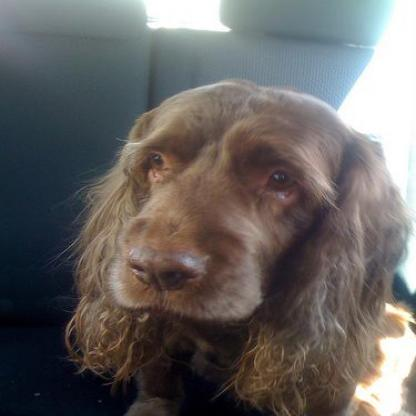Sussex_spaniel: (58, 75, 412, 413)
